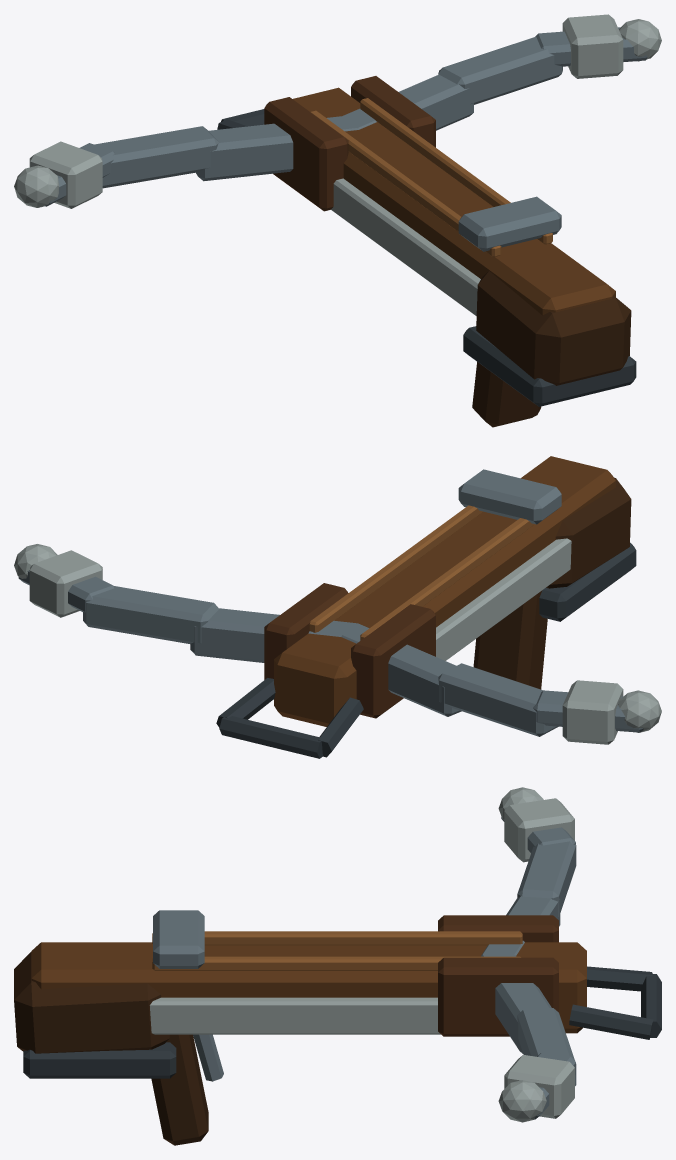
The model's file is Crossbow.glb.
3 views of the same model, one above another, from view 1: azimuth 30°, elevation 25°; view 2: azimuth 150°, elevation 25°; view 3: azimuth 270°, elevation 25° (orthographic).
Visible parts, largest first — view 1: Sculpture; view 2: Sculpture; view 3: Sculpture.
Boxes of the visible parts, x1,y1,x2,y2 form: Sculpture: (14, 14, 661, 427); Sculpture: (14, 456, 661, 758); Sculpture: (14, 787, 661, 1145).
Bounding box in the file's own units: 0.918 × 0.2854 × 0.8047.
